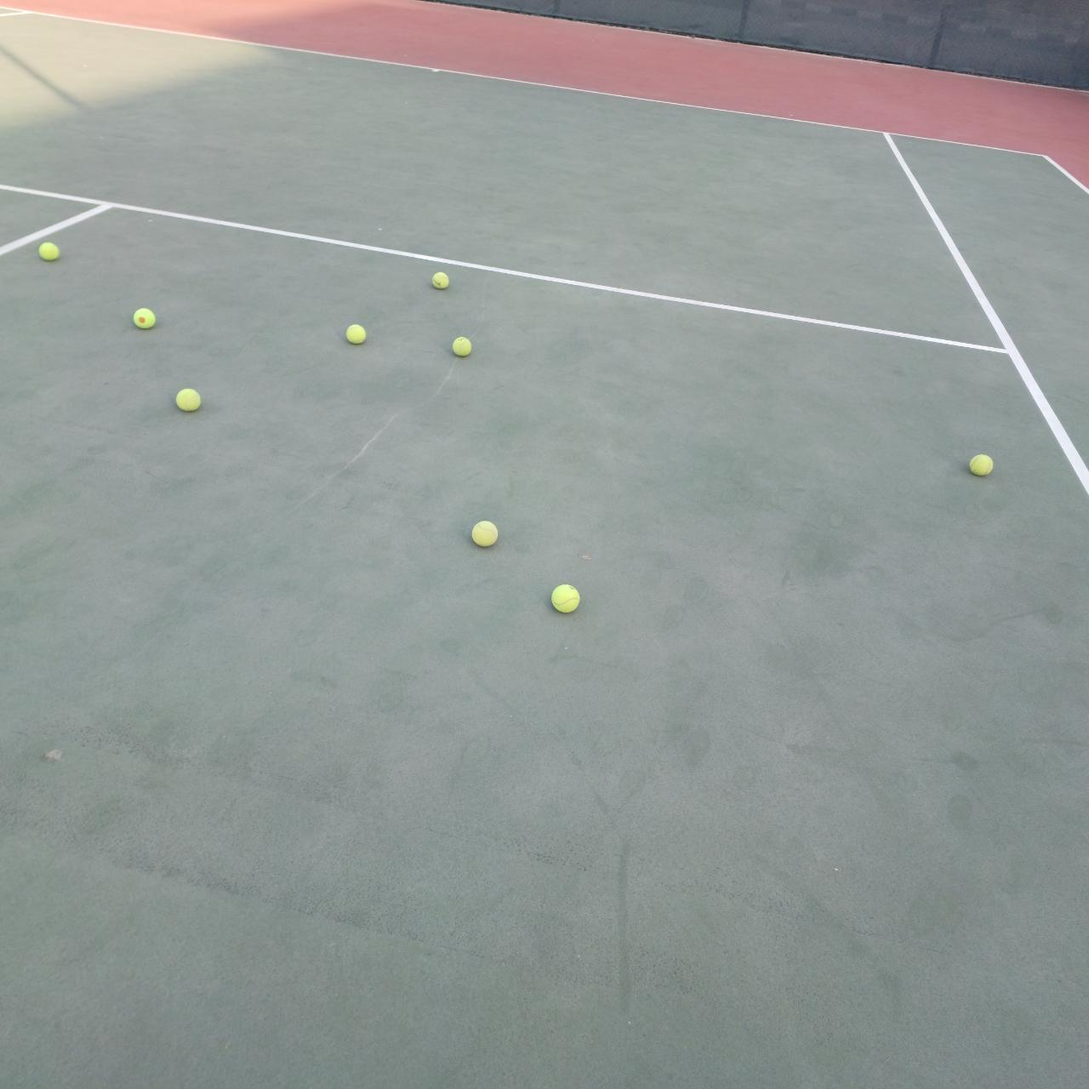tennis-ball: (549, 581, 580, 613), (470, 518, 499, 547), (174, 385, 202, 412), (968, 451, 994, 476), (131, 305, 156, 329), (37, 239, 60, 261), (450, 334, 472, 356), (344, 322, 366, 344), (430, 269, 449, 289)
